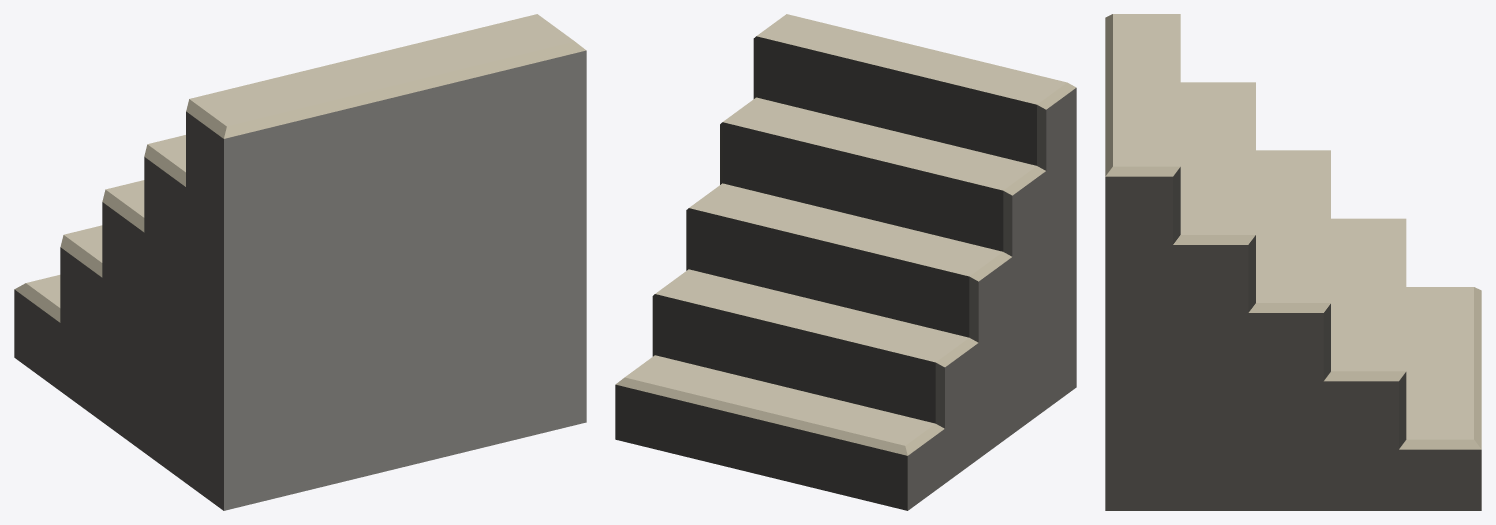
File: slate steps_S.FBX
3 views of the same model, side by side, from view 1: azimuth 30°, elevation 25°; view 2: azimuth 150°, elevation 25°; view 3: azimuth 270°, elevation 25° (orthographic). The views are drawn at different scales.
Visible parts, largest first — view 1: slate steps_S; view 2: slate steps_S; view 3: slate steps_S.
Part boxes in pixels (x1,y1,x2,y2): slate steps_S: (14,14,586,510); slate steps_S: (615,14,1076,510); slate steps_S: (1105,14,1481,510).
Bounding box in the file's own units: 100 × 100 × 100.
